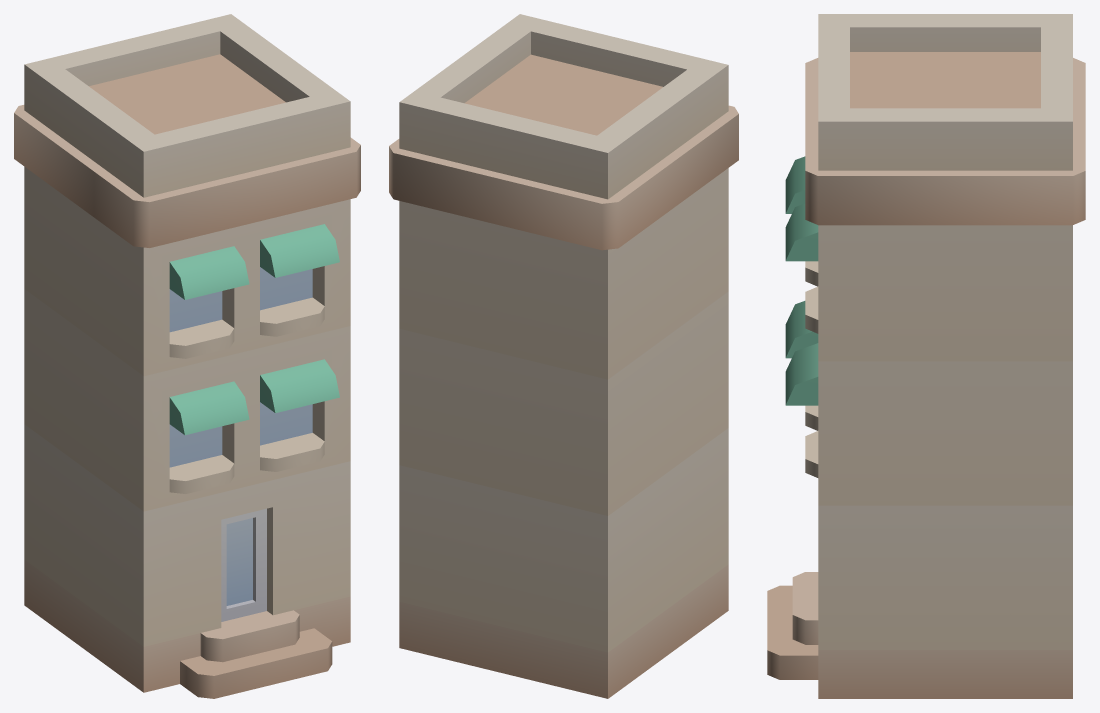
File: building-sample-tower-a.glb
3 renders of one model, left to right at view 1: azimuth 30°, elevation 25°; view 2: azimuth 150°, elevation 25°; view 3: azimuth 270°, elevation 25°, orthographic. The views are drawn at different scales.
Visible parts, largest first — view 1: building-sample-tower-a; view 2: building-sample-tower-a; view 3: building-sample-tower-a.
Boxes of the visible parts, x1,y1,x2,y2 form: building-sample-tower-a: (14, 14, 360, 698); building-sample-tower-a: (389, 14, 738, 698); building-sample-tower-a: (767, 14, 1085, 698).
Size of the model in its own units: 1.1 by 2.5 by 1.25.
